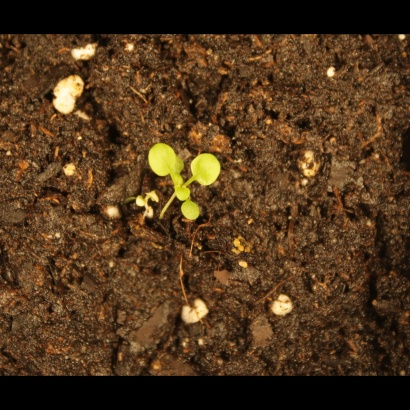leaf: (140, 142, 182, 178), (189, 151, 226, 190), (176, 200, 204, 224), (171, 182, 194, 205)
